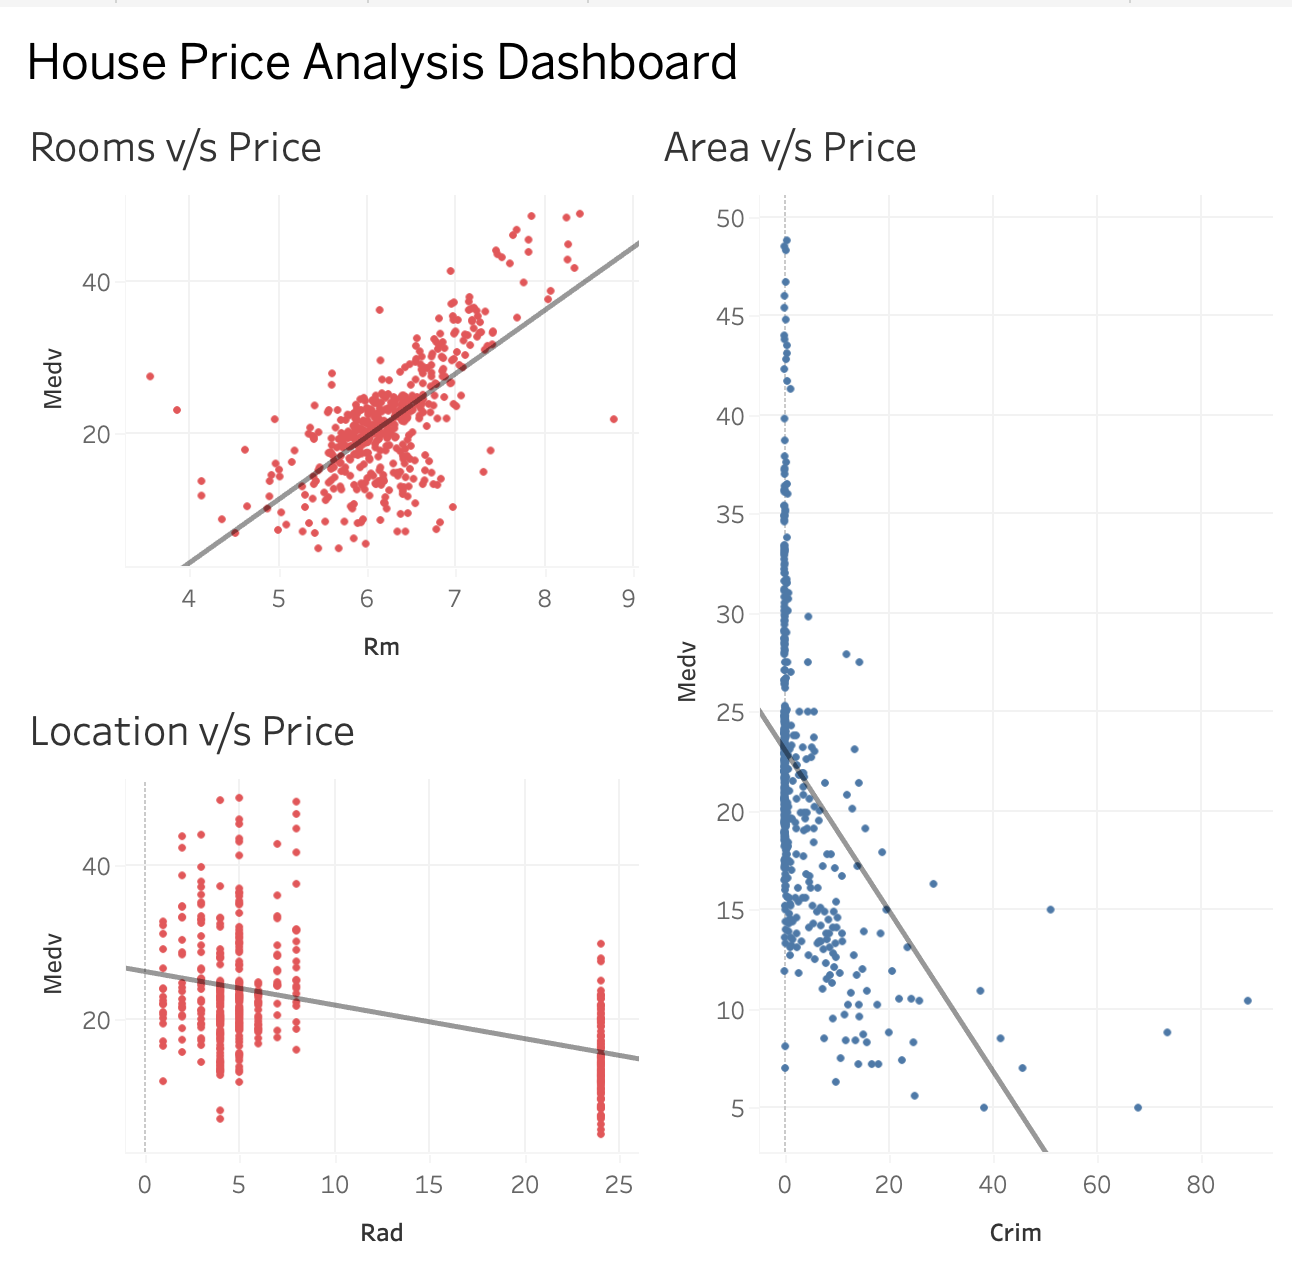

The dashboard page shown, as its layout file describes it:
{"tool":"tableau","page":{"name":"Dashboard 1","canvas":[650,860],"ordinal":0},"visuals":[{"type":"title","box":[8,8.9,634,43.6]},{"type":"worksheet","title":"Sheet 1","mark":"Automatic","rows":["medv"],"cols":["rm"],"box":[8,52.6,317,399.2]},{"type":"worksheet","title":"Sheet 2","mark":"Automatic","rows":["medv"],"cols":["crim"],"box":[325,52.6,317,798.5]},{"type":"worksheet","title":"Sheet 3","mark":"Automatic","rows":["medv"],"cols":["rad"],"box":[8,451.8,317,399.3]}]}

Visuals, with their boxes on the page's 650x860 design canvas (x1, y1, x2, y2). These are canvas units, not pixel positions in the 1292x1270 screenshot, which may show the page scaled, cropped or inside an application window:
title: select_region(8, 9, 642, 52)
"Sheet 1" worksheet: select_region(8, 53, 325, 452)
"Sheet 2" worksheet: select_region(325, 53, 642, 851)
"Sheet 3" worksheet: select_region(8, 452, 325, 851)
